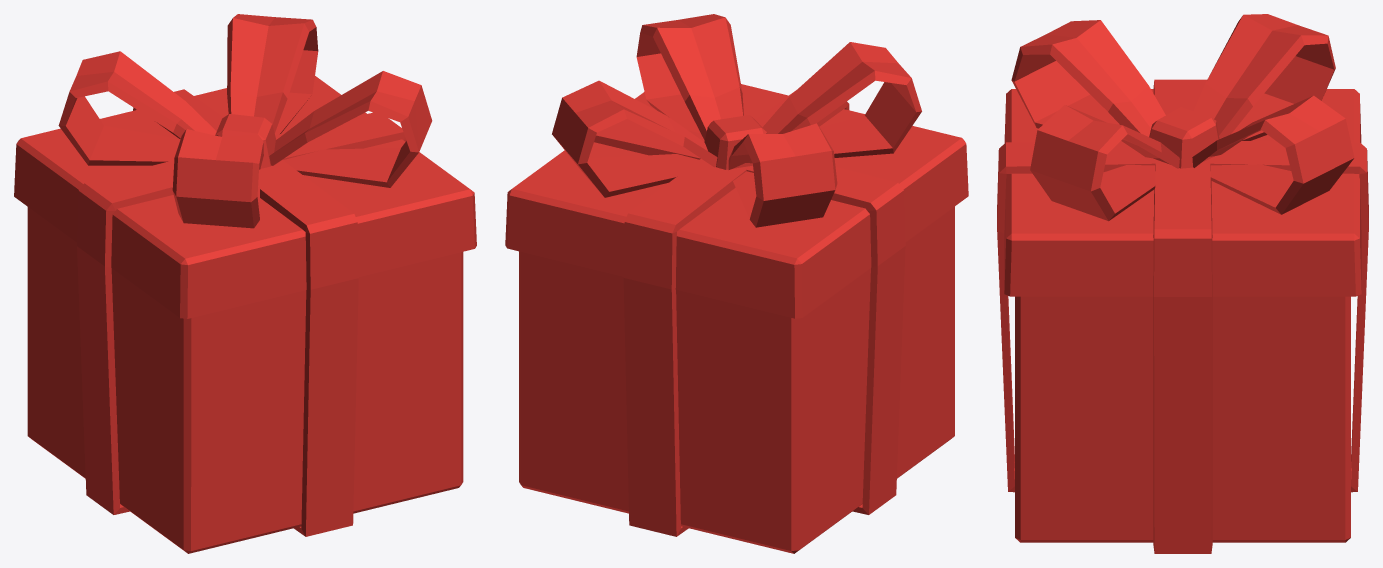
Rendered from SM_Gift_Christmas_Cube_B.fbx.
3 renders of one model, left to right at view 1: azimuth 30°, elevation 25°; view 2: azimuth 150°, elevation 25°; view 3: azimuth 270°, elevation 25°, orthographic. The views are drawn at different scales.
Visible parts, largest first — view 1: gift-christmas-cube-b; view 2: gift-christmas-cube-b; view 3: gift-christmas-cube-b.
Boxes of the visible parts, x1=… form: gift-christmas-cube-b: x1=14, y1=14, x2=476, y2=553; gift-christmas-cube-b: x1=505, y1=14, x2=968, y2=553; gift-christmas-cube-b: x1=997, y1=14, x2=1368, y2=553.
Bounding box in the file's own units: 0.3317 × 0.4065 × 0.3317.
